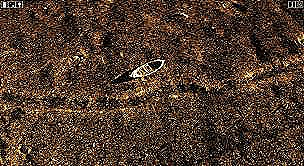ship: (127, 58, 165, 78)
